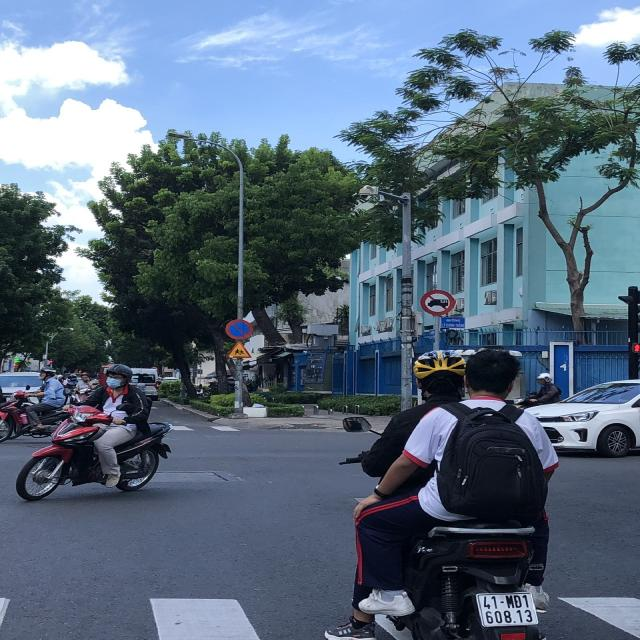Bien bao cam xe oto: (418, 287, 457, 317)
Bien bao tre em: (226, 340, 256, 360)
